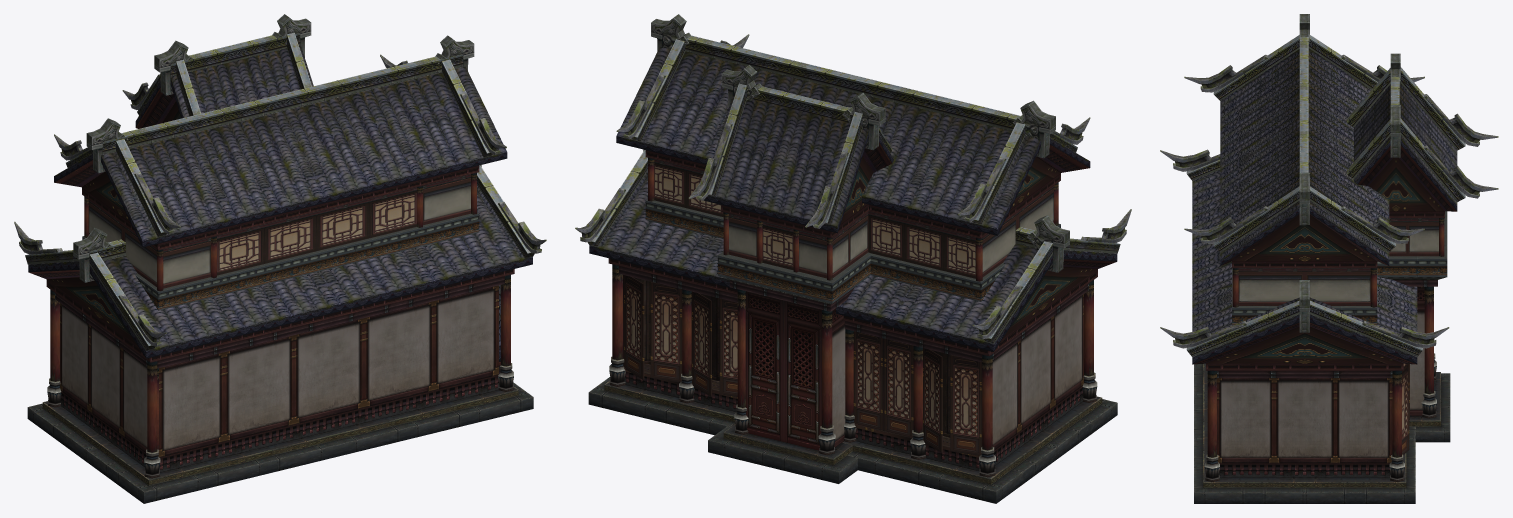
Rendered from HYC_jianzhu_08.FBX.
The picture shows the model from 3 angles, left to right: view 1: azimuth 30°, elevation 25°; view 2: azimuth 150°, elevation 25°; view 3: azimuth 270°, elevation 25°; orthographic projection. The views are drawn at different scales.
Visible parts, largest first — view 1: HYC_jianzhu_08; view 2: HYC_jianzhu_08; view 3: HYC_jianzhu_08.
Part boxes in pixels (bbox=[...]): HYC_jianzhu_08: bbox=[14, 14, 546, 503]; HYC_jianzhu_08: bbox=[575, 14, 1131, 503]; HYC_jianzhu_08: bbox=[1160, 14, 1498, 503].
Size of the model in its own units: 1222 by 998 by 918.
